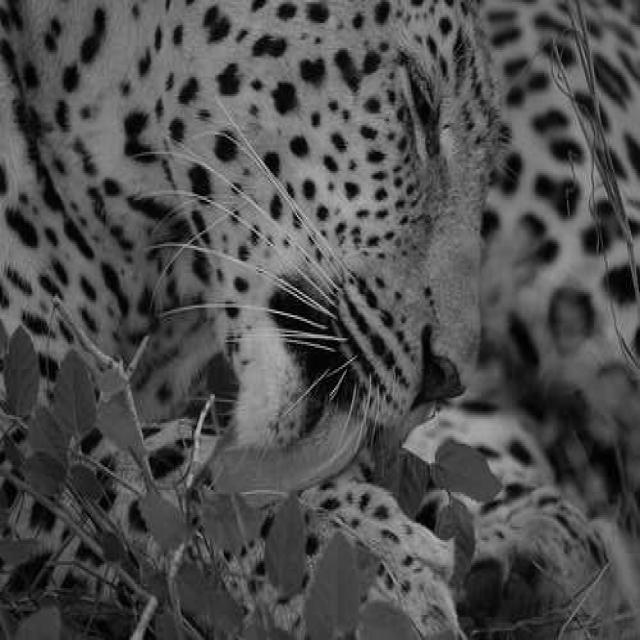Leopard: (1, 0, 636, 636)
